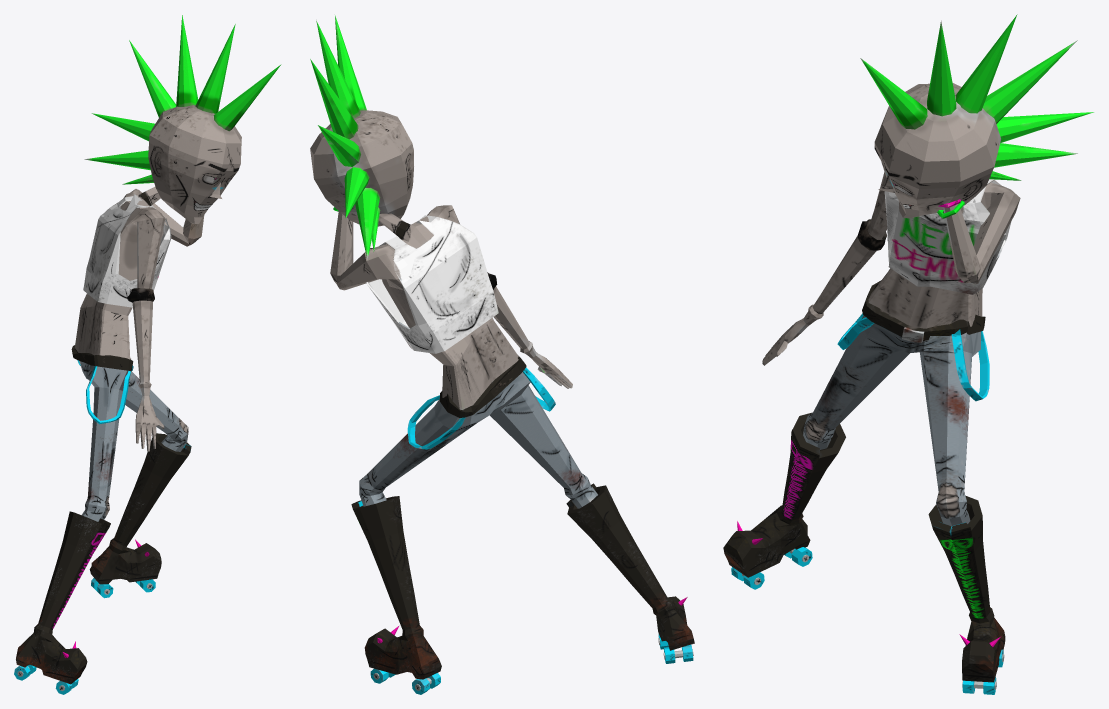
Rendered from punkAnimation_000060.obj.
The picture shows the model from 3 angles, left to right: view 1: azimuth 30°, elevation 25°; view 2: azimuth 150°, elevation 25°; view 3: azimuth 270°, elevation 25°; orthographic projection. The views are drawn at different scales.
Visible parts, largest first — view 1: Cube.004_Cube.003; view 2: Cube.004_Cube.003; view 3: Cube.004_Cube.003.
Boxes of the visible parts, x1,y1,x2,y2 form: Cube.004_Cube.003: [14, 15, 281, 694]; Cube.004_Cube.003: [310, 15, 694, 694]; Cube.004_Cube.003: [723, 14, 1093, 694].
Size of the model in its own units: 3.68 by 6.67 by 3.11.
